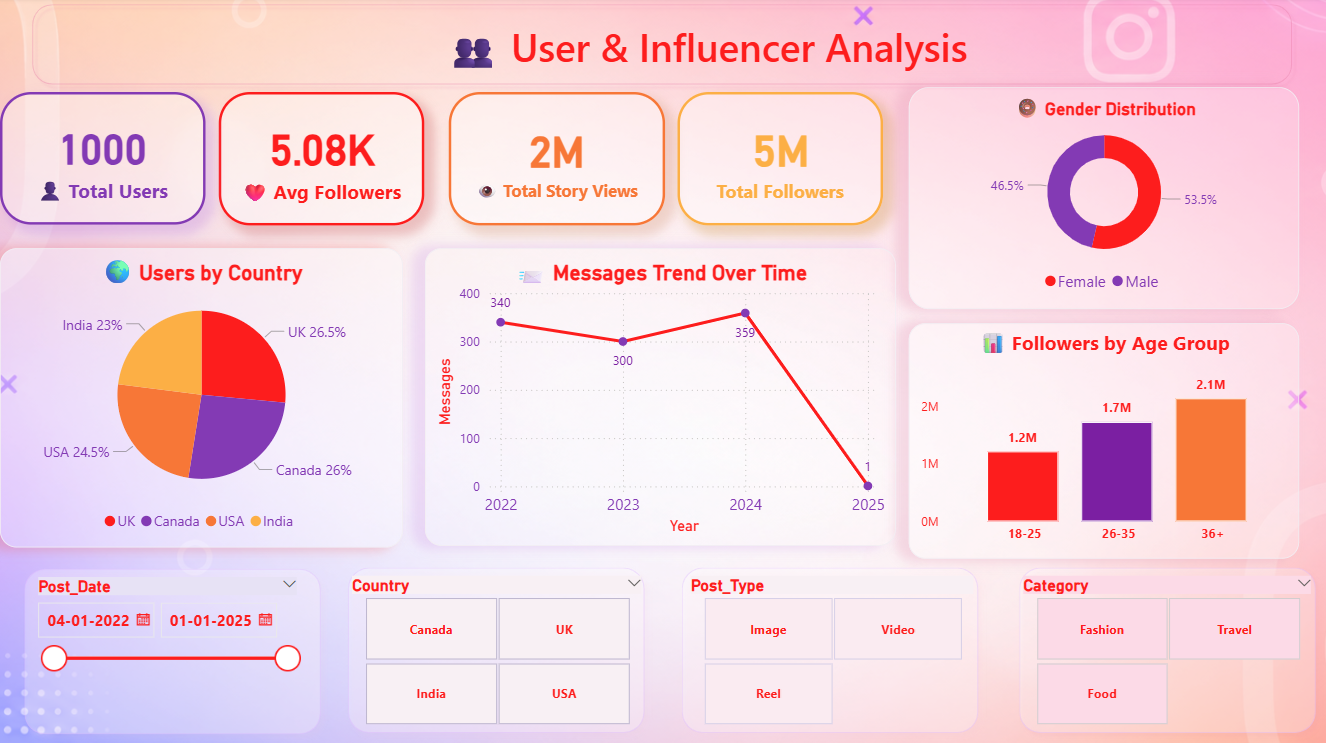

What the dashboard file says about the page in this screenshot:
{"tool":"powerbi","page":{"name":"User & Influencer Analysis","canvas":[1280,720],"ordinal":3},"visuals":[{"type":"card","fields":{"Values":["Stories.Total Story Views"]},"box":[432.9,91.4,208.6,128.6],"z":0},{"type":"card","fields":{"Values":["Followers.Avg Followers Per User"]},"box":[211.4,91.4,198.6,128.6],"z":1000},{"type":"card","fields":{"Values":["Followers.Total Followers"]},"box":[654.3,91.4,198.6,128.6],"z":2000},{"type":"clusteredColumnChart","title":"📊 Followers by Age Group","fields":{"Y":["Sum(Users.Followers_Count)"],"Category":["Users.Age_Group"]},"box":[877.1,314.3,377.1,227.1],"z":4000},{"type":"donutChart","title":"🍩 Gender Distribution","fields":{"Category":["Users.Gender"],"Y":["Users.Total Users"]},"box":[877.1,87.1,377.1,214.3],"z":5000},{"type":"group","id":"g1","title":"Group 1","box":[15,541.2,1265,178.8],"z":6000},{"type":"shape","box":[24.3,0,1230,91.4],"z":7000},{"type":"textbox","box":[151.2,0,1063.8,116.2],"z":8000},{"type":"slicer","fields":{"Values":["Posts.Post_Date"]},"box":[23.8,555,275,165],"z":9000},{"type":"shape","box":[15,542,304.1,177.6],"z":10000,"group":"g1"},{"type":"slicer","fields":{"Values":["Users.Country"]},"box":[327.5,553.8,305,155],"z":10000},{"type":"shape","box":[327.3,541.2,304.1,177.6],"z":11000,"group":"g1"},{"type":"slicer","fields":{"Values":["Posts.Post_Type"]},"box":[653.8,553.8,298.8,155],"z":11000},{"type":"shape","box":[649.1,541.2,304.1,177.6],"z":12000,"group":"g1"},{"type":"slicer","fields":{"Values":["Hashtags.Category"]},"box":[975,553.8,303.8,155],"z":12000},{"type":"lineChart","title":"📨 Messages Trend Over Time","fields":{"Category":["Users.Join_Date.Variation.Date Hierarchy.Year","Users.Join_Date.Variation.Date Hierarchy.Quarter","Users.Join_Date.Variation.Date Hierarchy.Month","Users.Join_Date.Variation.Date Hierarchy.Day"],"Y":["Messages.Total Messages"]},"box":[410,242.9,454.3,287.1],"z":13000},{"type":"shape","box":[975.2,541.2,304.1,177.6],"z":13000,"group":"g1"},{"type":"card","fields":{"Values":["Users.Total Users"]},"box":[0,92,198,128],"z":14000},{"type":"pieChart","title":"🌍 Users by Country","fields":{"Category":["Users.Country"],"Y":["Users.Total Users"]},"box":[0,242.9,388.6,288.6],"z":15000}]}

Visuals, with their boxes in screenshot pixels (x1, y1, x2, y2), scaled from the page's 1280x720 canvas onto the 1326x743 screenshot:
card - Stories.Total Story Views: l=448, t=94, r=665, b=227
card - Followers.Avg Followers Per User: l=219, t=94, r=425, b=227
card - Followers.Total Followers: l=678, t=94, r=884, b=227
"📊 Followers by Age Group" clusteredColumnChart: l=909, t=324, r=1299, b=559
"🍩 Gender Distribution" donutChart: l=909, t=90, r=1299, b=311
"Group 1" group: l=16, t=558, r=1325, b=742
shape: l=25, t=0, r=1299, b=94
textbox: l=157, t=0, r=1259, b=120
slicer - Posts.Post_Date: l=25, t=573, r=310, b=742
shape: l=16, t=559, r=331, b=742
slicer - Users.Country: l=339, t=571, r=655, b=731
shape: l=339, t=558, r=654, b=742
slicer - Posts.Post_Type: l=677, t=571, r=987, b=731
shape: l=672, t=558, r=987, b=742
slicer - Hashtags.Category: l=1010, t=571, r=1325, b=731
"📨 Messages Trend Over Time" lineChart: l=425, t=251, r=895, b=547
shape: l=1010, t=558, r=1325, b=742
card - Users.Total Users: l=0, t=95, r=205, b=227
"🌍 Users by Country" pieChart: l=0, t=251, r=403, b=548
